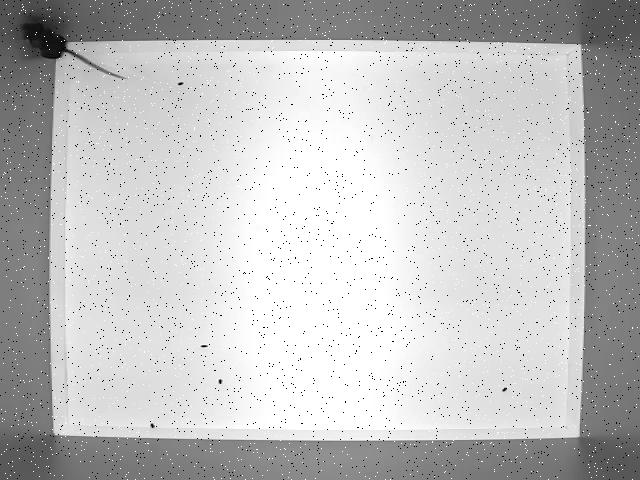Tikus: (20, 11, 134, 89)
